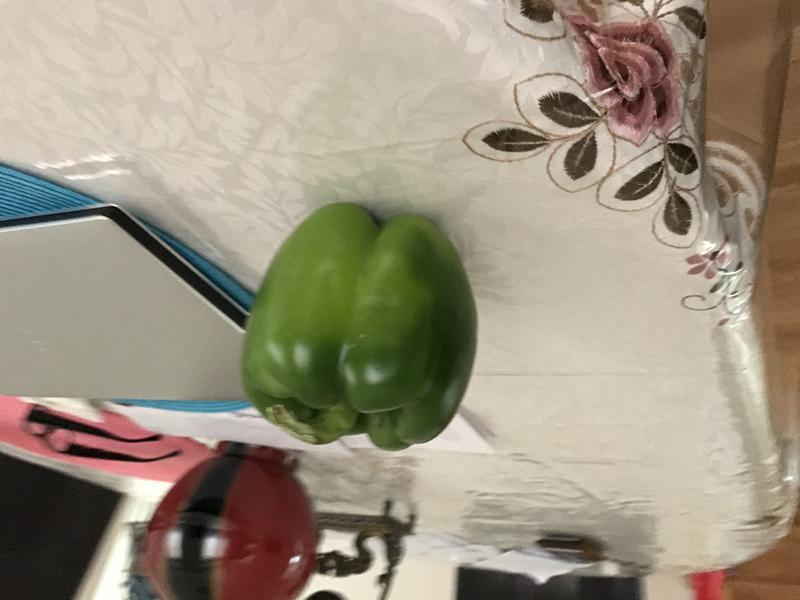green_pepper: (234, 183, 487, 461)
